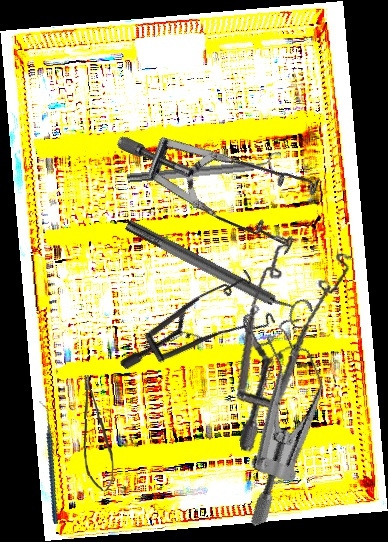Chopper: (9, 400, 88, 525)
Fixation Ring: (120, 208, 316, 334), (126, 151, 283, 190)
Micro Scissor: (79, 374, 117, 492)
Speculum: (113, 56, 345, 299), (175, 289, 367, 528), (208, 220, 379, 455), (118, 242, 290, 424)
